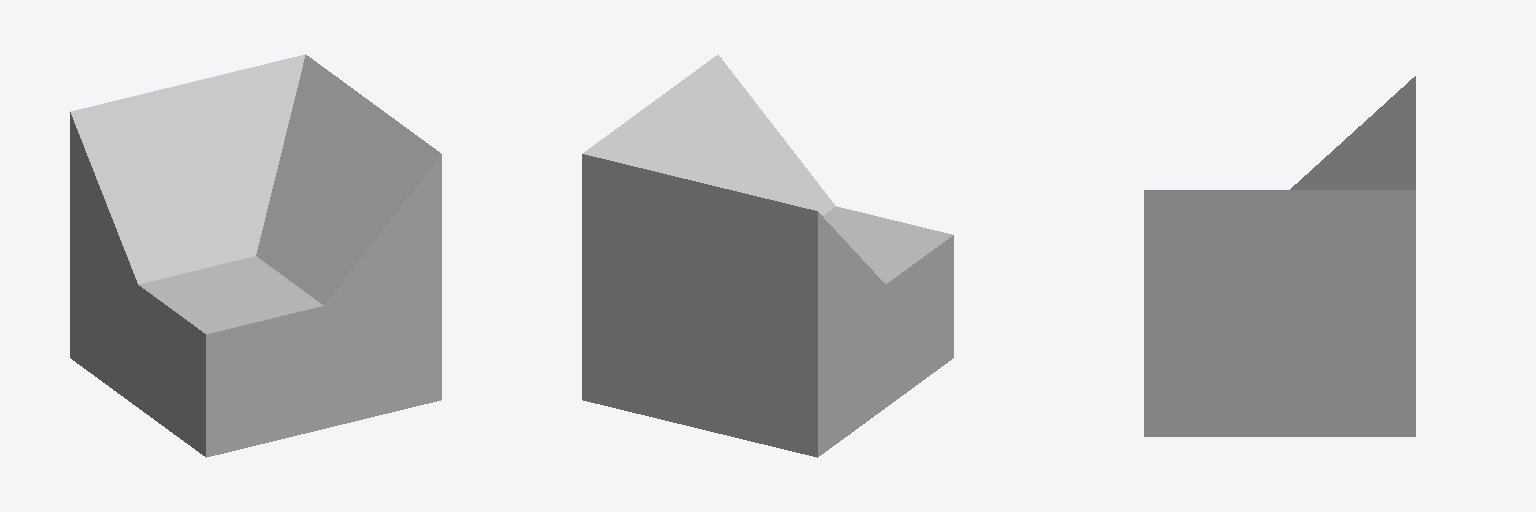
File: SlopeUp2.obj
3 renders of one model, left to right at view 1: azimuth 30°, elevation 25°; view 2: azimuth 150°, elevation 25°; view 3: azimuth 270°, elevation 25°, orthographic.
Visible parts, largest first — view 1: SlopeUp2_Cube.008; view 2: SlopeUp2_Cube.008; view 3: SlopeUp2_Cube.008.
Part boxes in pixels (x1,y1,x2,y2): SlopeUp2_Cube.008: (70, 54, 441, 457); SlopeUp2_Cube.008: (582, 55, 953, 457); SlopeUp2_Cube.008: (1144, 76, 1415, 436).
Bounding box in the file's own units: 1 × 1 × 1.